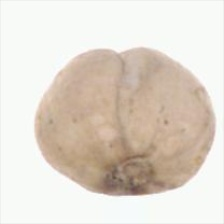L3: (89, 43, 150, 59)
L4: (34, 45, 217, 195)
